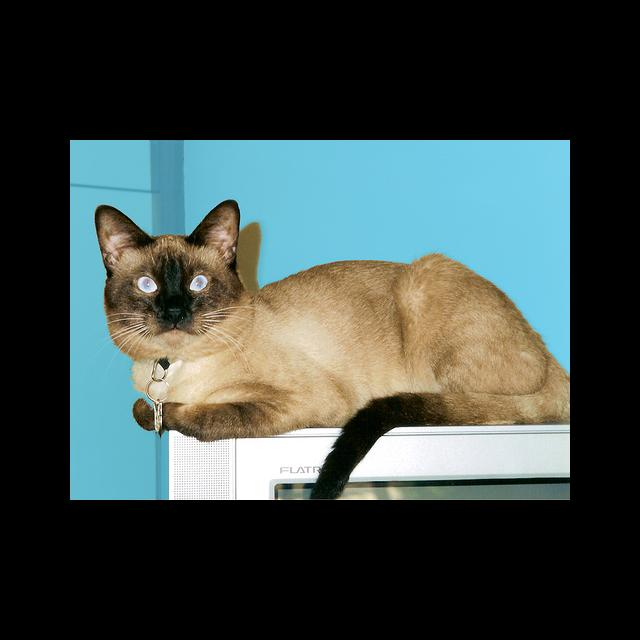animals: (100, 199, 235, 322)
